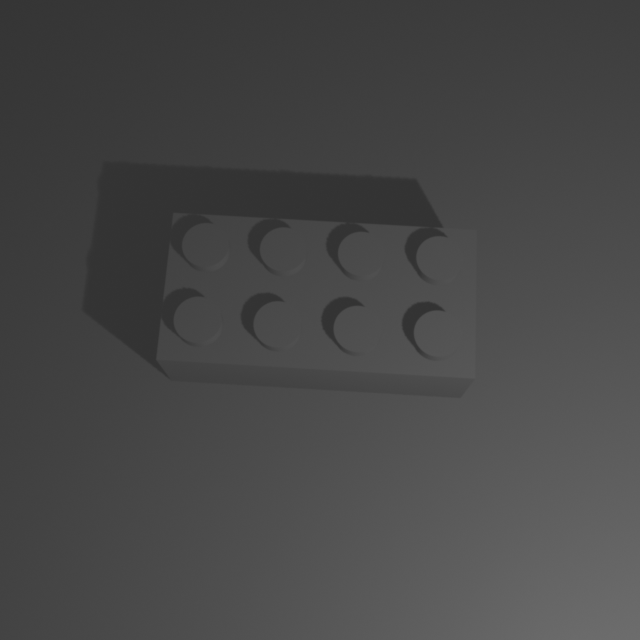lego_2x4: (153, 207, 479, 398)
